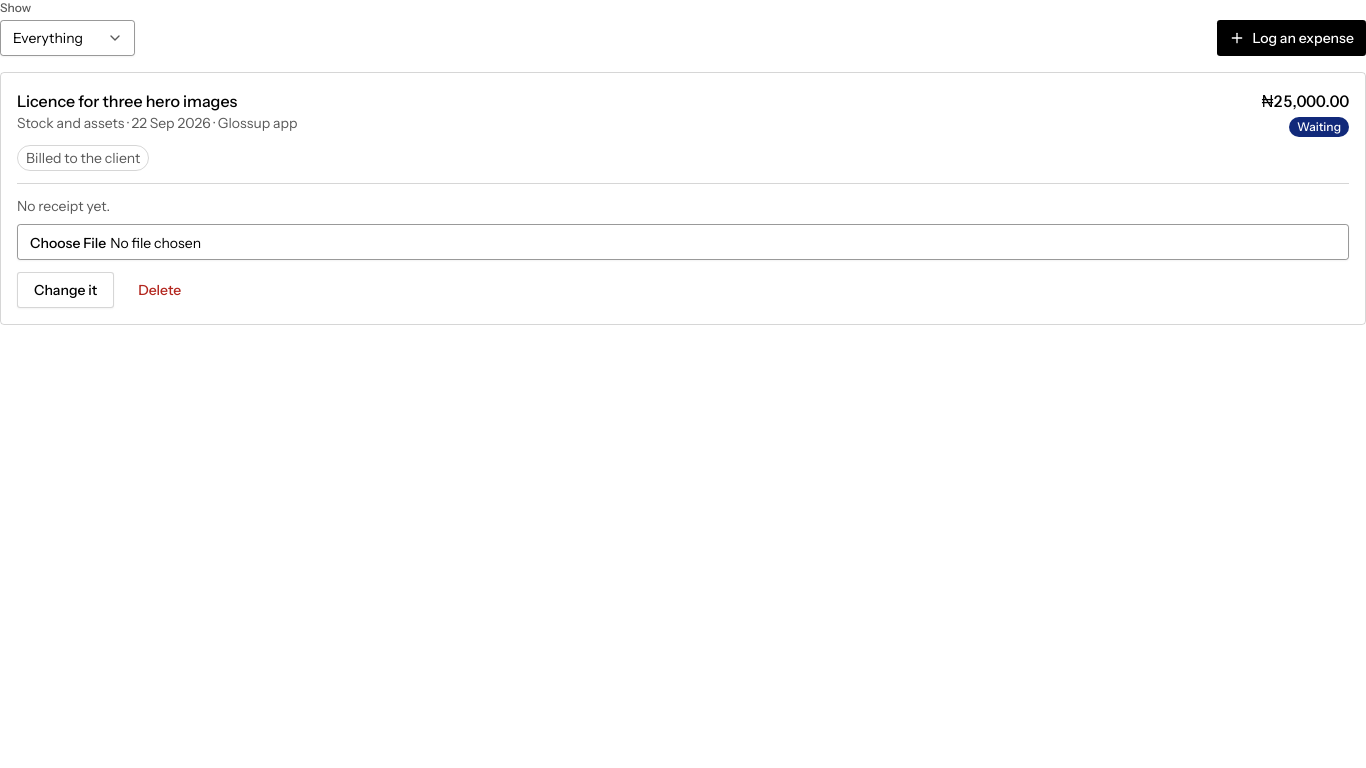
Test case: the expenses screen › spends in the project’s currency once a project is chosen
Click the button "Log an expense": point(1291, 38) [1216,20,1365,56]
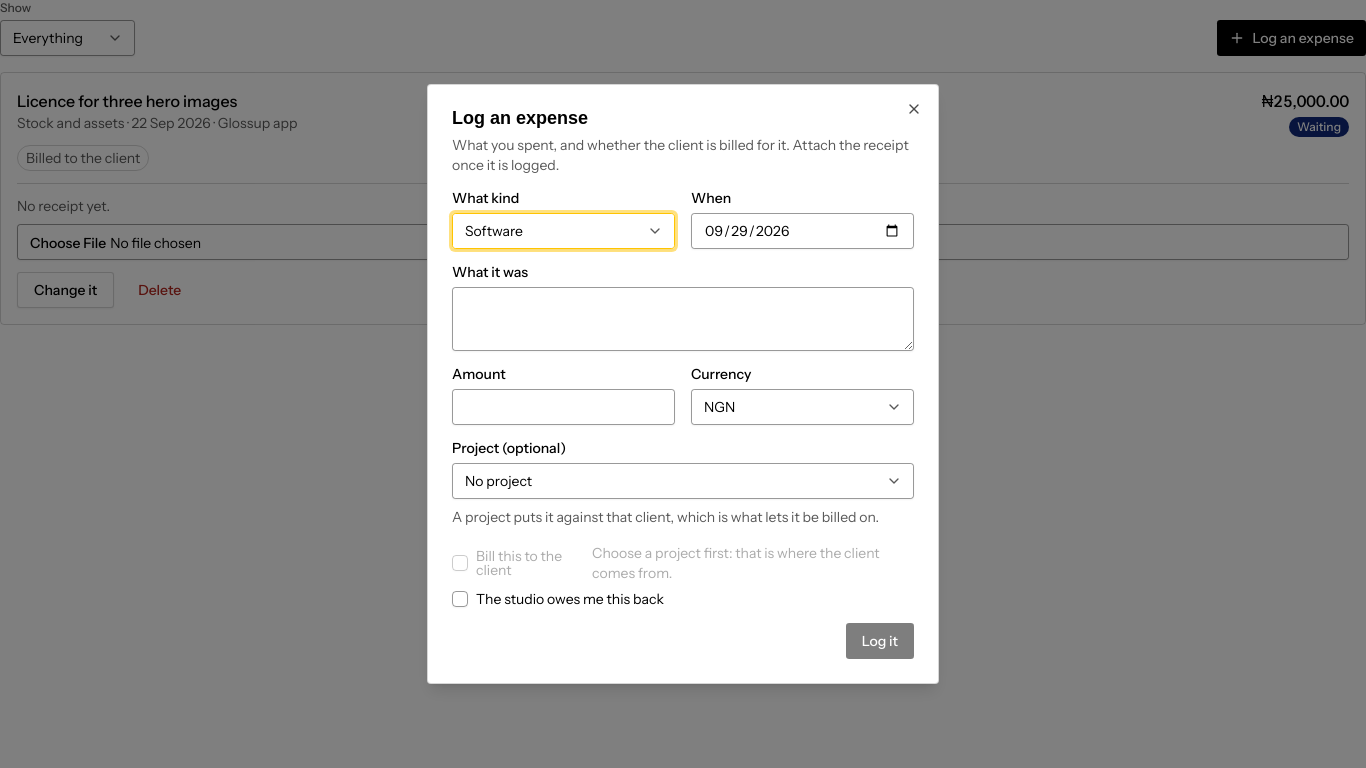
Check: the dropdown labelled "Currency" is enabled, box [691,389,914,425]
Select "UNB-P-0001 · Glossup app" in the dropdown labelled "Project (optional)": point(683, 481) [452,463,914,499]
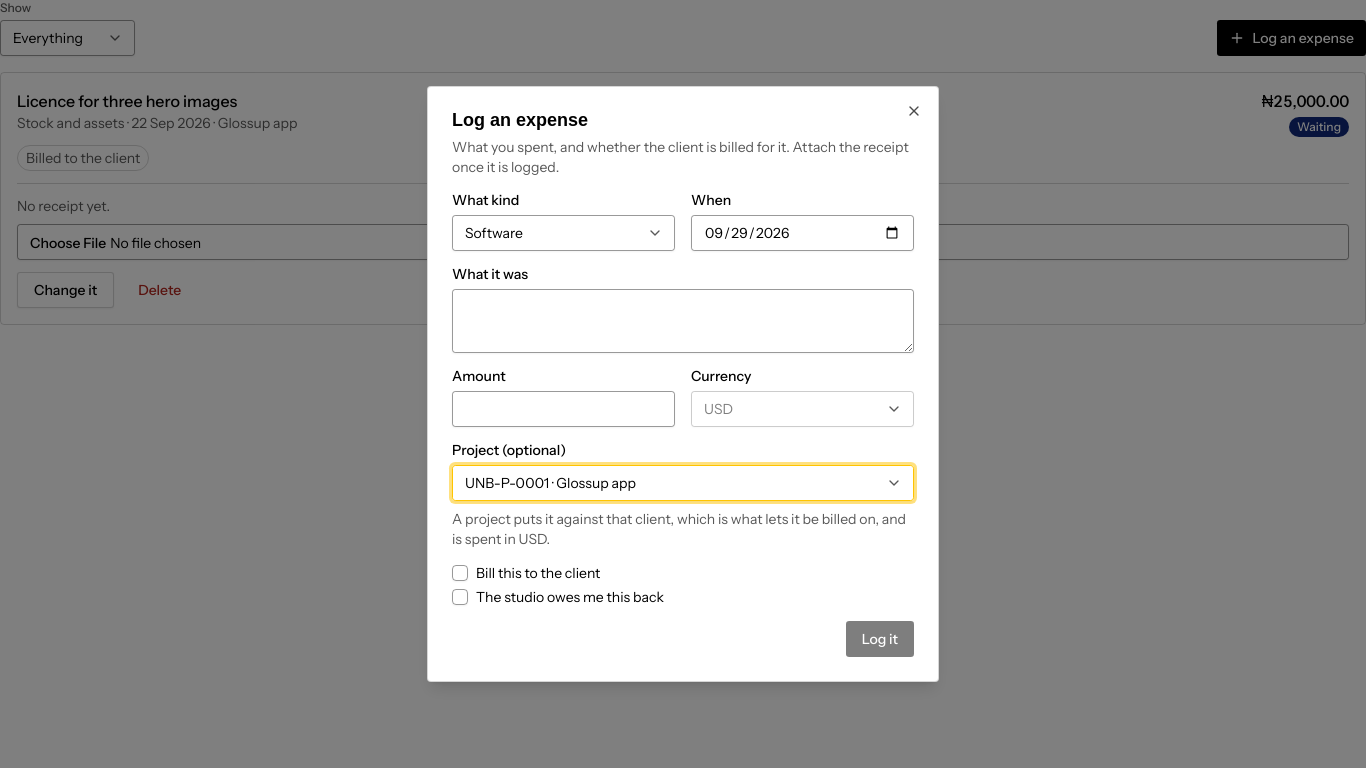
Check: the dropdown labelled "Currency" shows "USD", box [691,391,914,427]
Check: the dropdown labelled "Currency" is disabled, box [691,391,914,427]
